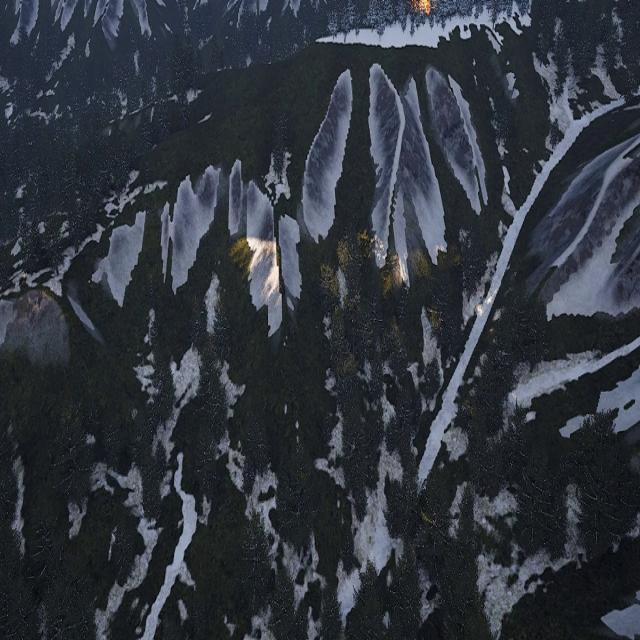fire: (415, 0, 432, 11)
